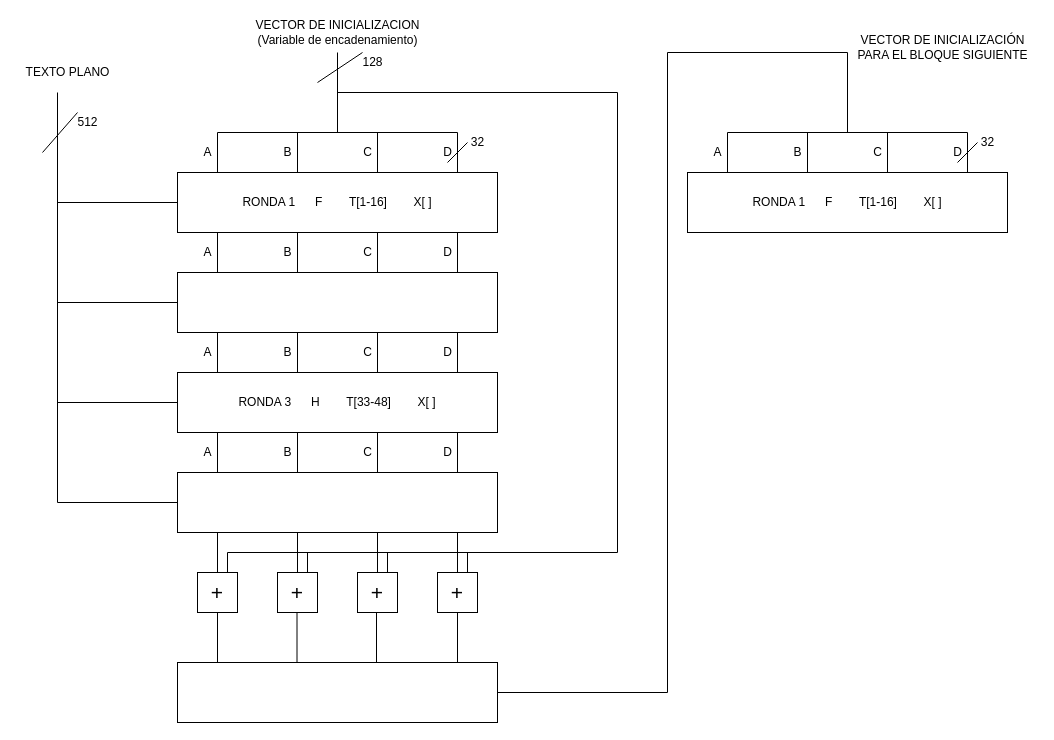
This 1054x740 diagram has some shape labels left out. The shapes that lost their labels are listed below. From the top down, each one's centre as x and y in pixels, then its label:
At [337,302]: "RONDA 2 G T[17-32] X[ ]".
At [337,502]: "RONDA 4 I T[49-64] X[ ]".
At [337,692]: "MENSAJE DIGERIDO (Variable de encadenamiento)".
